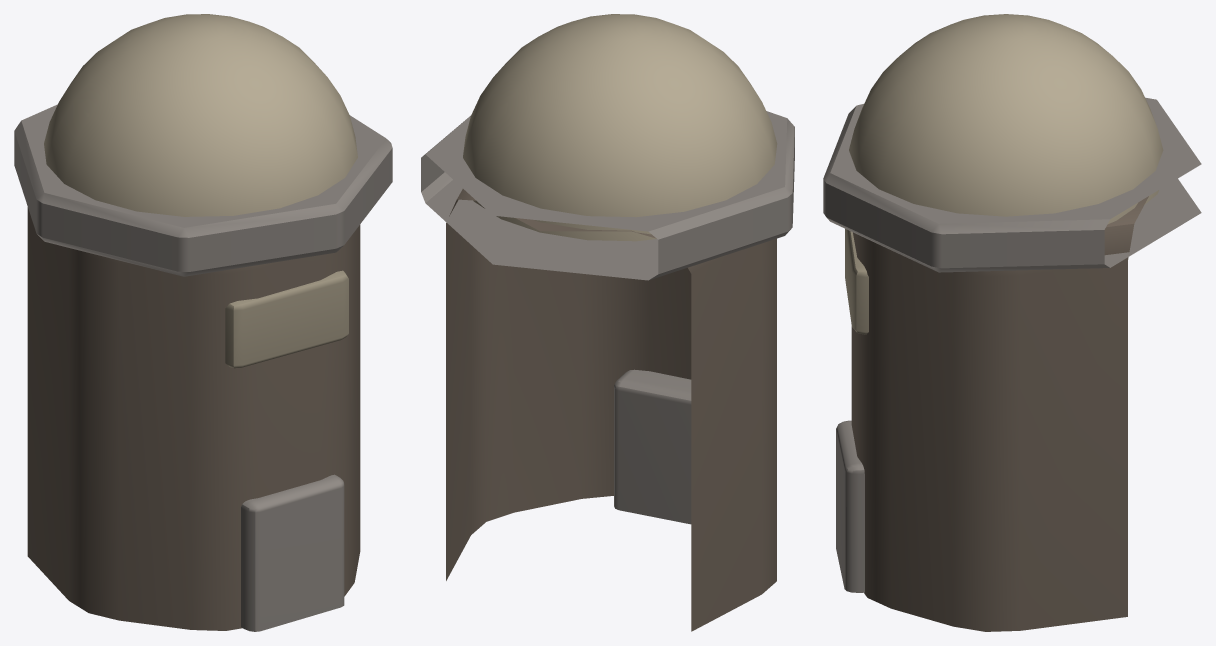
3 renders of one model, left to right at view 1: azimuth 30°, elevation 25°; view 2: azimuth 150°, elevation 25°; view 3: azimuth 270°, elevation 25°, orthographic.
Visible parts, largest first — view 1: pCylinder17; view 2: pCylinder17; view 3: pCylinder17.
Boxes of the visible parts, x1,y1,x2,y2 form: pCylinder17: (14, 14, 392, 631); pCylinder17: (421, 14, 794, 631); pCylinder17: (823, 14, 1201, 631).
Bounding box in the file's own units: 27.92 × 44.11 × 28.38.
